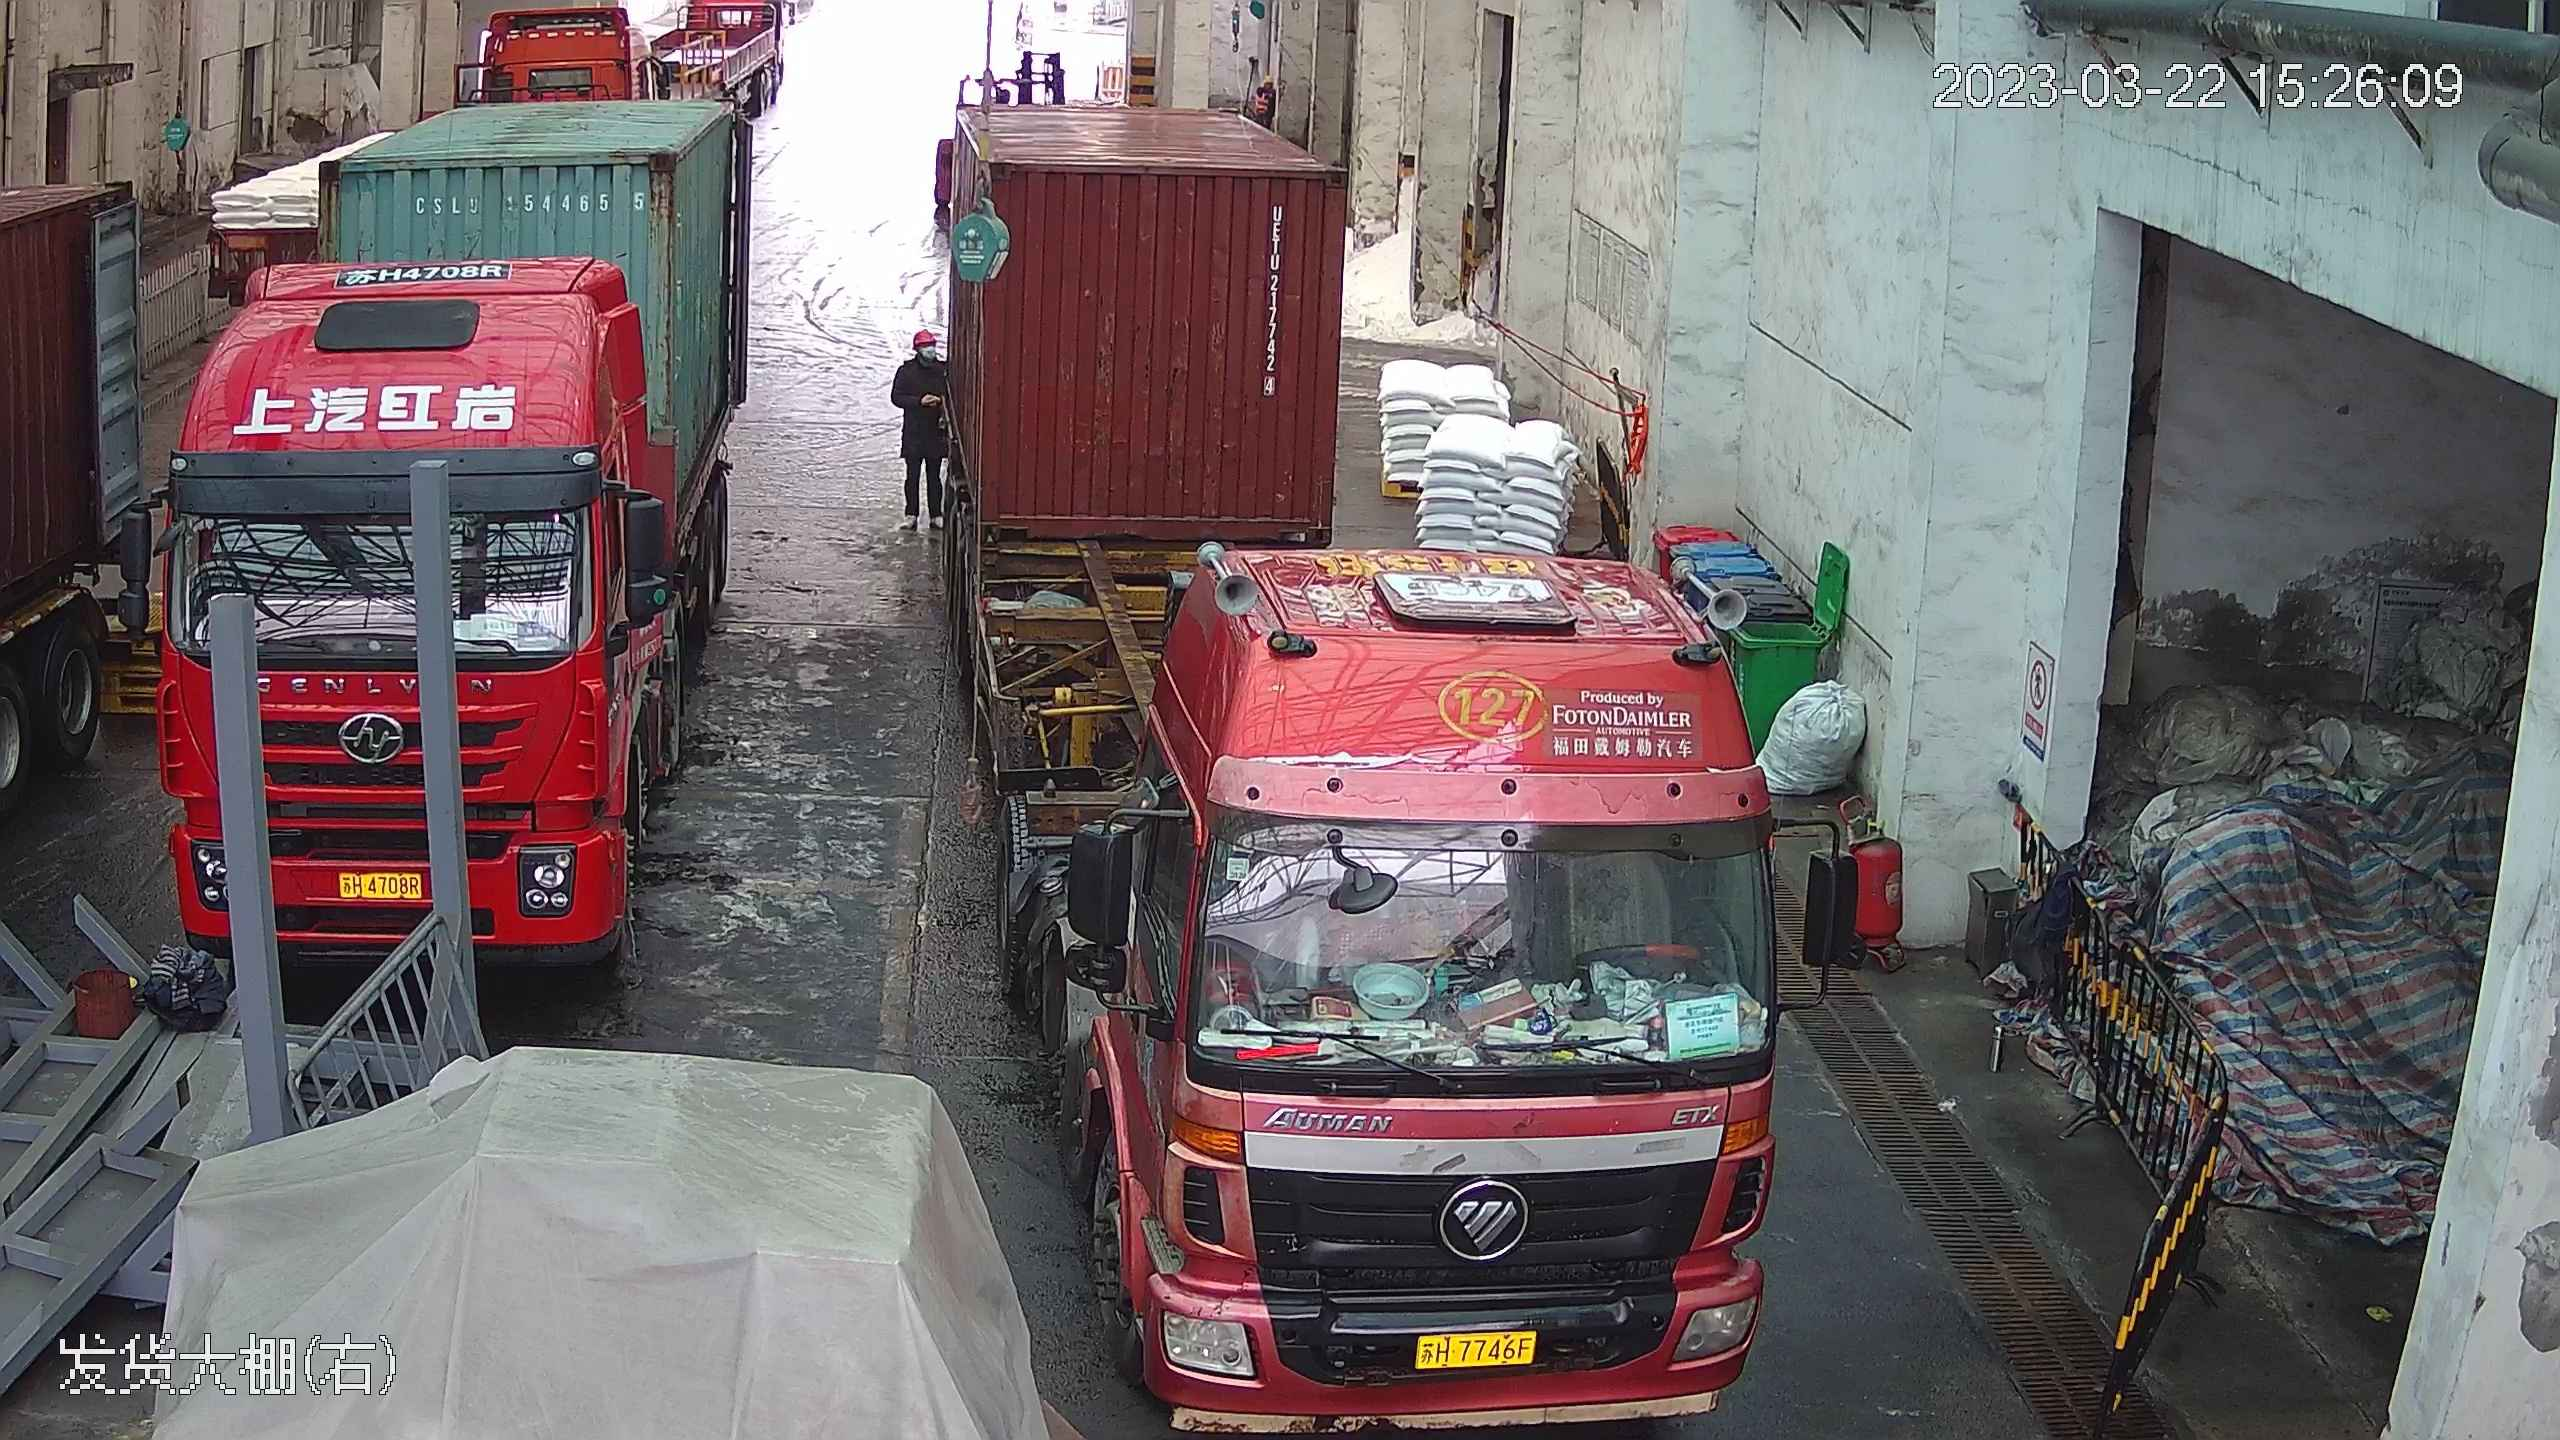head: (894, 321, 948, 383)
helmet: (909, 322, 937, 345)
people: (891, 321, 950, 524)
truck: (923, 11, 1802, 1435), (147, 14, 767, 966)
